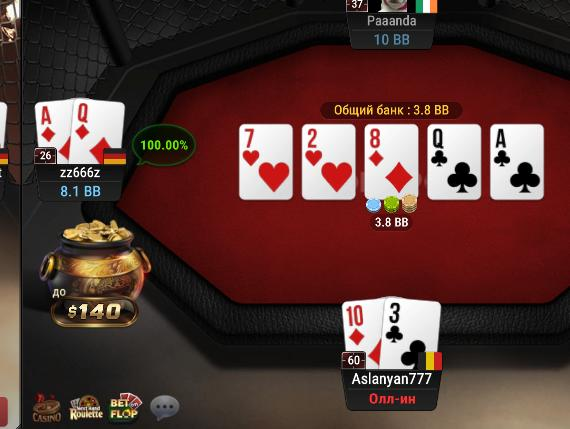10d: (341, 302, 383, 369)
2h: (302, 125, 354, 199)
3c: (382, 294, 439, 371)
7h: (239, 124, 292, 199)
8d: (365, 125, 418, 199)
Ac: (491, 124, 542, 199)
Ad: (35, 102, 73, 162)
Qc: (428, 125, 481, 199)
Qd: (72, 99, 122, 162)
